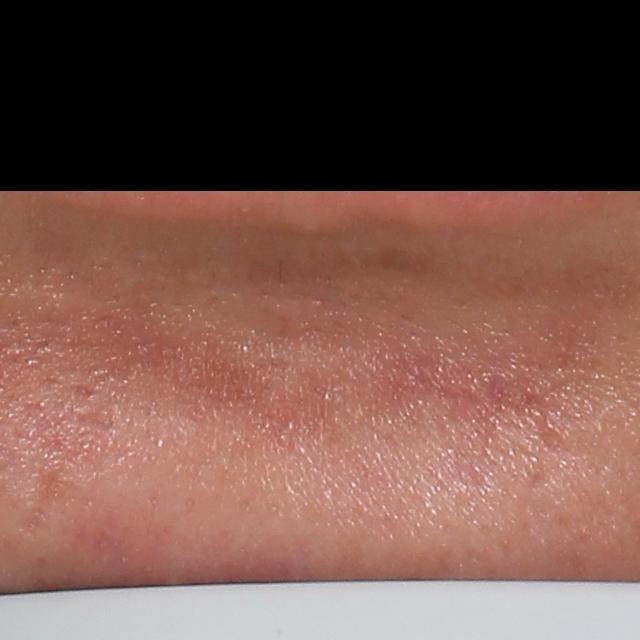atrophic_scar: (13, 455, 72, 538), (67, 381, 93, 406)
